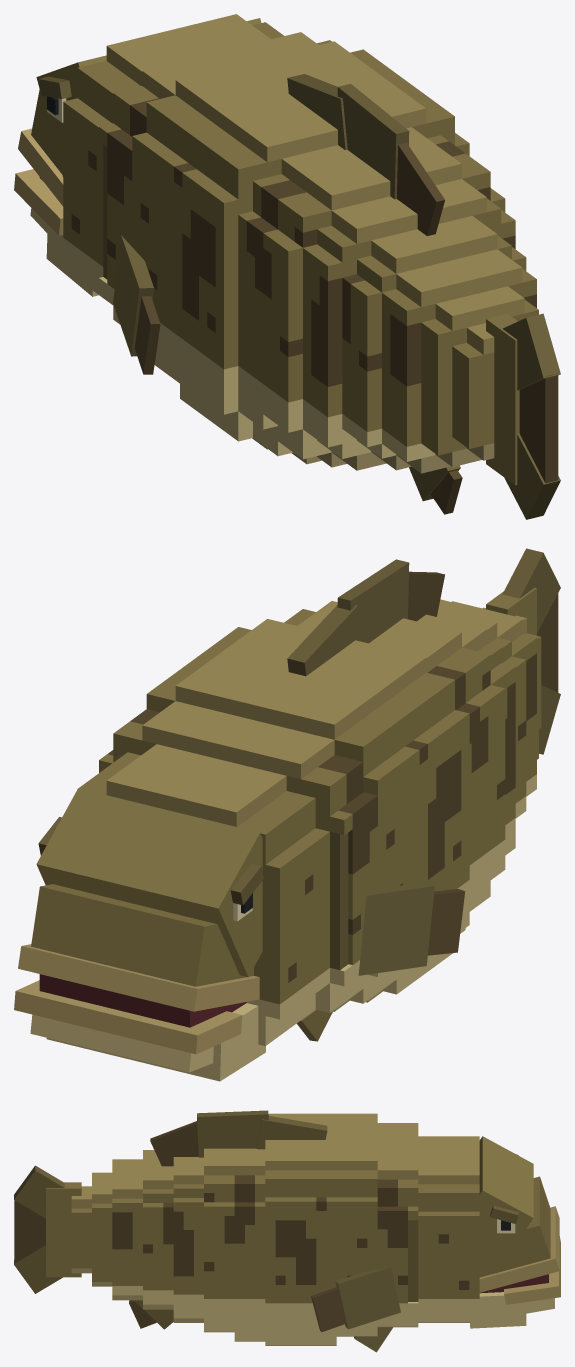
File: GoliathGrouper.obj
3 renders of one model, top to bottom at view 1: azimuth 30°, elevation 25°; view 2: azimuth 150°, elevation 25°; view 3: azimuth 270°, elevation 25°, orthographic. The views are drawn at different scales.
Visible parts, largest first — view 1: B2, B4, B3, B1, B5, Head, Tail, PecL, Jaw; view 2: Head, B1, B2, B3, Jaw, B4, PecL, Tail, B5; view 3: Head, B2, B1, B3, B4, Tail, B5, PecR, Jaw.
Part boxes in pixels (box(x1,y1,x2,y2)): B2: box(165, 66, 469, 449); B4: box(303, 142, 526, 514); B3: box(238, 83, 505, 467); B1: box(99, 32, 396, 383); B5: box(382, 249, 538, 473); Head: box(18, 14, 283, 304); Tail: box(452, 313, 560, 519); PecL: box(113, 235, 160, 374); Jaw: box(14, 169, 98, 296); Head: box(18, 744, 329, 1046); B1: box(99, 661, 411, 1041); B2: box(180, 605, 469, 1002); B3: box(284, 559, 505, 933); Jaw: box(14, 980, 265, 1081); B4: box(408, 571, 526, 855); PecL: box(358, 882, 465, 975); Tail: box(482, 548, 560, 754); B5: box(438, 599, 538, 796); Head: box(418, 1136, 559, 1322); B2: box(256, 1113, 336, 1345); B1: box(336, 1113, 418, 1352); B3: box(197, 1110, 268, 1341); B4: box(129, 1121, 203, 1329); Tail: box(14, 1165, 91, 1293); B5: box(92, 1159, 142, 1300); PecR: box(311, 1267, 400, 1332); Jaw: box(470, 1236, 560, 1328).
Size of the model in its own units: 9.8 by 10.83 by 24.14.
Materials: 1 (1 with a texture image).
